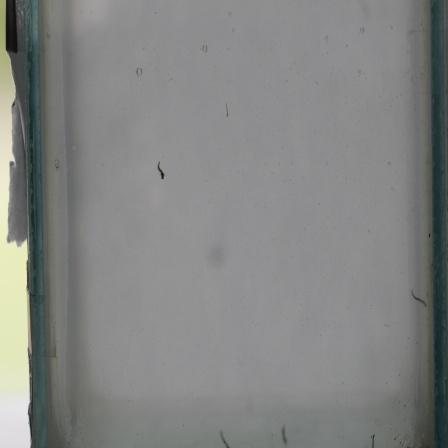Jentik-Nyamuk: (409, 287, 429, 312), (152, 158, 168, 182), (220, 101, 232, 119)
